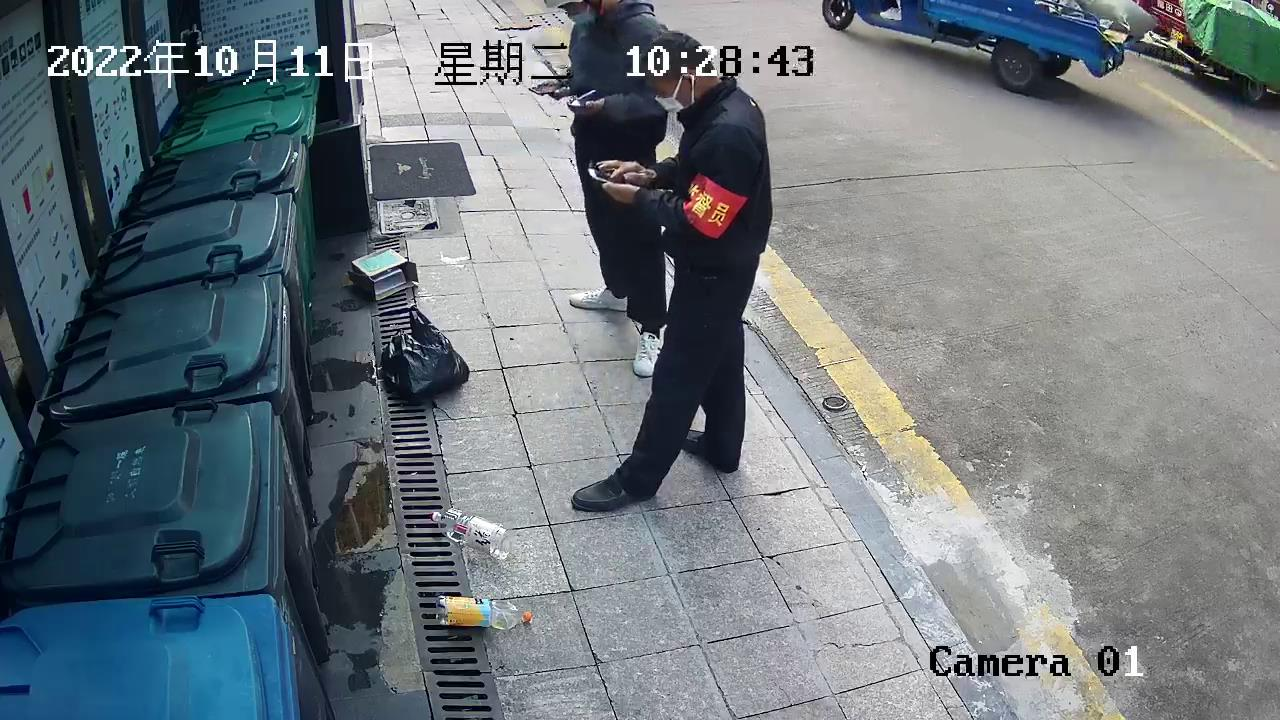garbage-bag: (373, 302, 473, 406)
suliaozhipin: (424, 502, 516, 565), (430, 590, 537, 632)
worker: (525, 1, 777, 517)
zhizhipin: (343, 244, 424, 309)
